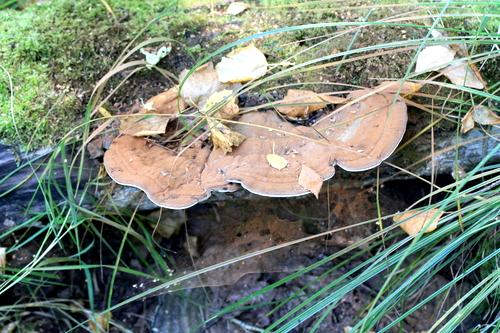Ganoderma - Fruit Body: (102, 87, 410, 214)
